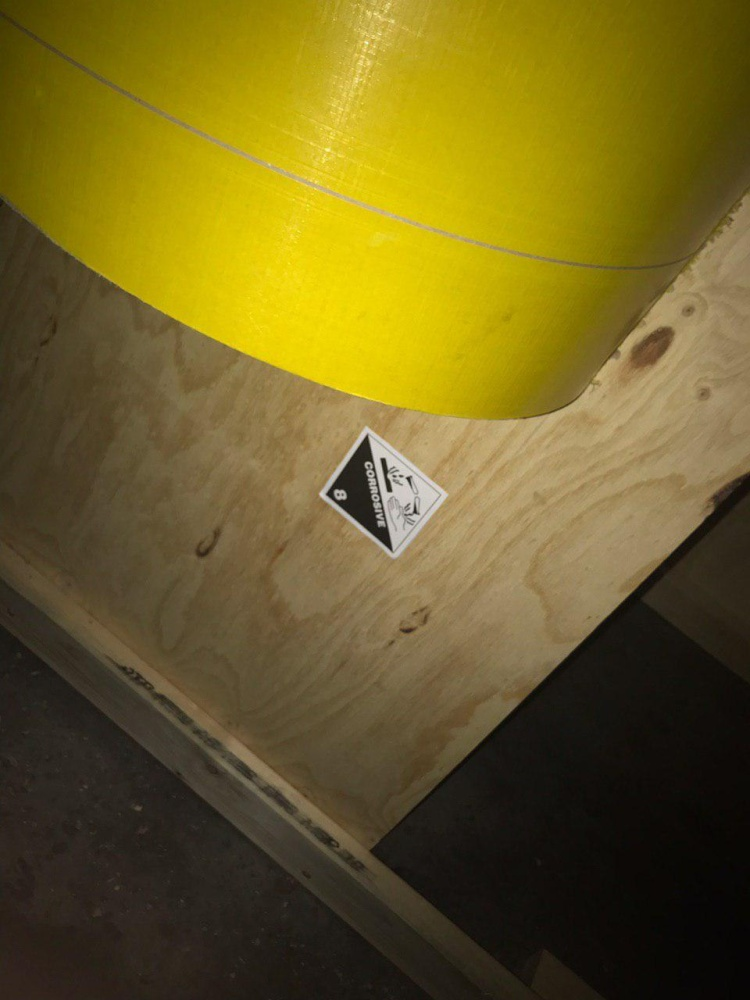Corrosive: (319, 426, 448, 559)
